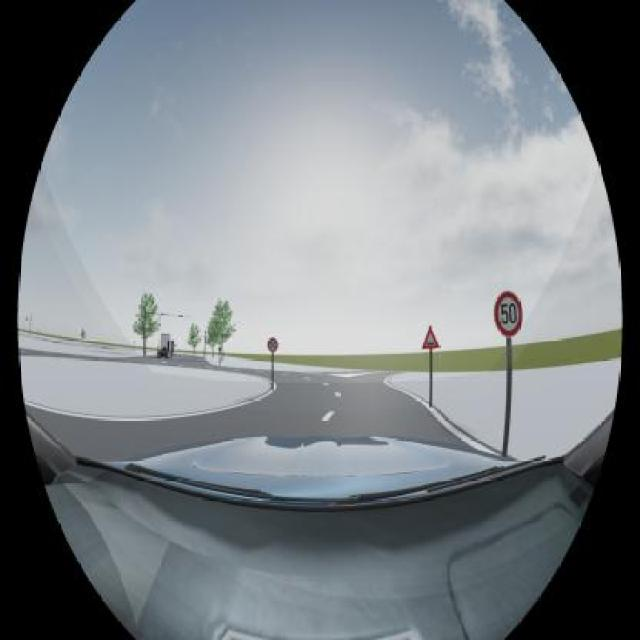Speed limit 50: (492, 289, 526, 340)
